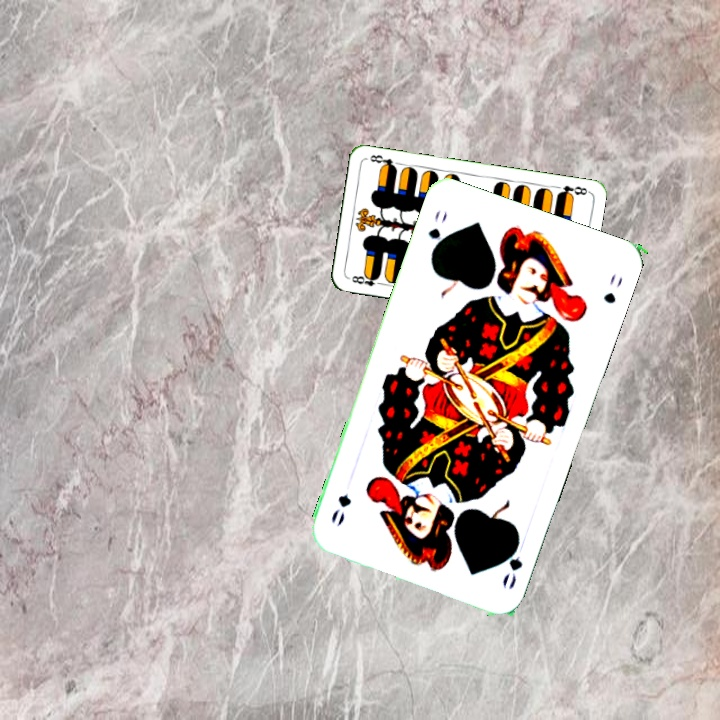E8: (348, 270, 386, 289), (553, 181, 591, 200)
GO: (498, 536, 528, 592), (424, 206, 450, 260)
